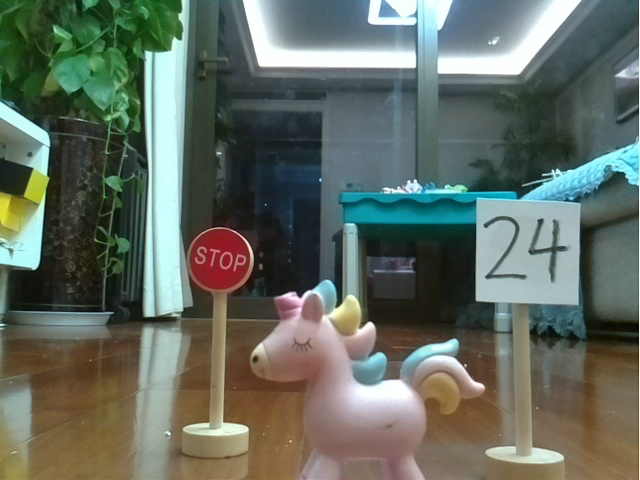Horse: (253, 277, 485, 480)
Speed Limit 24: (465, 184, 588, 480)
Stop Sign: (182, 220, 253, 457)
